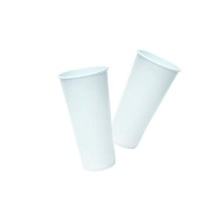paper_cup: (102, 42, 184, 155), (51, 60, 120, 175)
